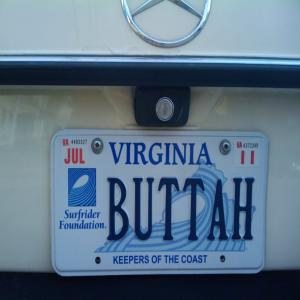Vehicle-registration-plate: (50, 128, 271, 279)
